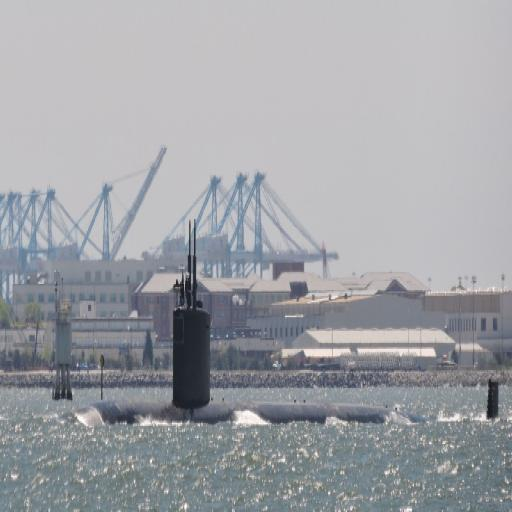submarine: (95, 315, 500, 427)
